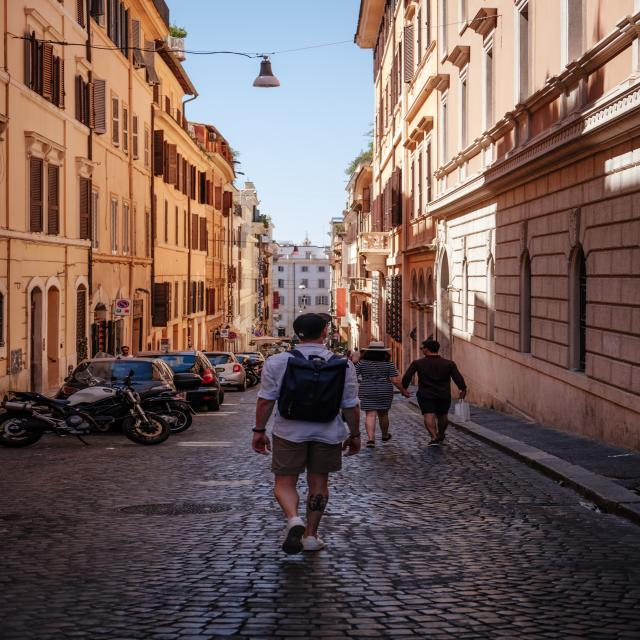backpack: (264, 349, 347, 424)
